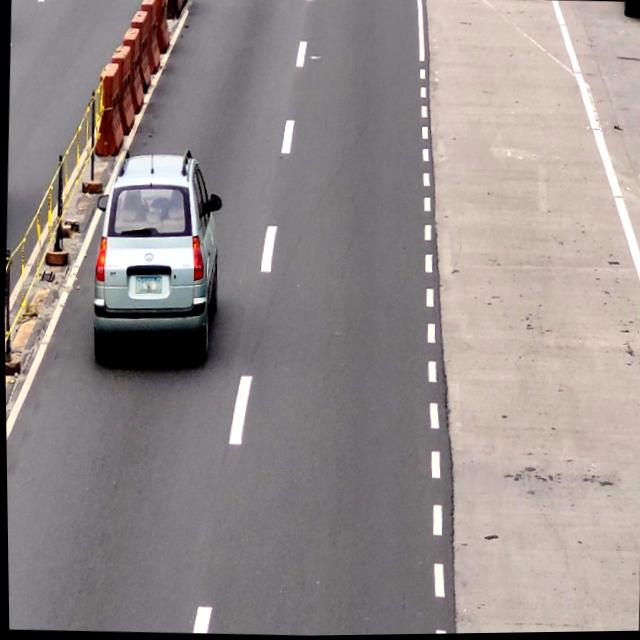Car: (88, 152, 222, 364)
License-Plate: (132, 276, 161, 295)
